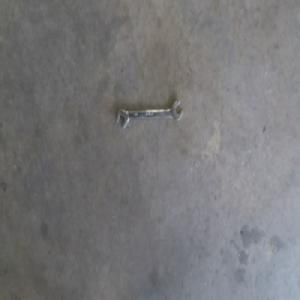Wrench: (116, 101, 183, 128)
